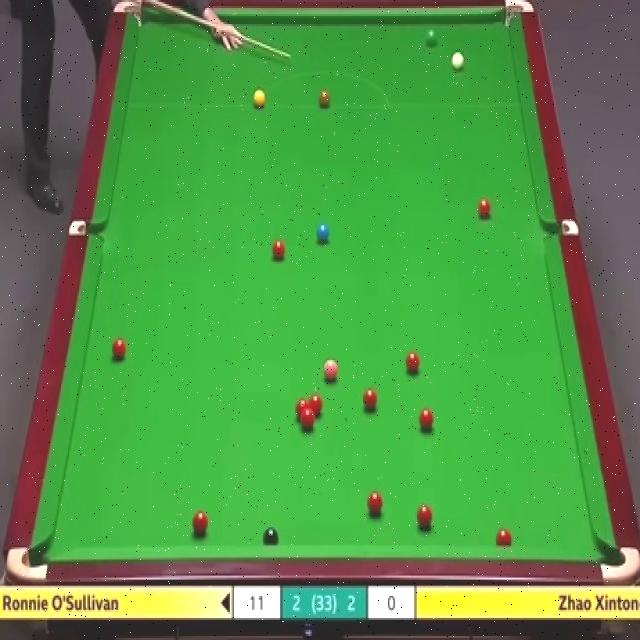black-ball: (262, 524, 280, 547)
blue-ball: (315, 221, 330, 245)
brown-ball: (316, 87, 331, 110)
green-ball: (424, 29, 440, 48)
pink-ball: (323, 355, 339, 382)
red-ball: (404, 349, 421, 378), (110, 336, 128, 363), (416, 504, 432, 531), (367, 490, 383, 516), (193, 509, 209, 535), (418, 405, 433, 431), (362, 387, 377, 413), (477, 194, 492, 219), (310, 394, 324, 419), (272, 238, 286, 262), (497, 526, 512, 546), (296, 398, 309, 419), (302, 410, 314, 430)
white-ball: (450, 48, 465, 70)
yellow-ball: (252, 88, 266, 108)
